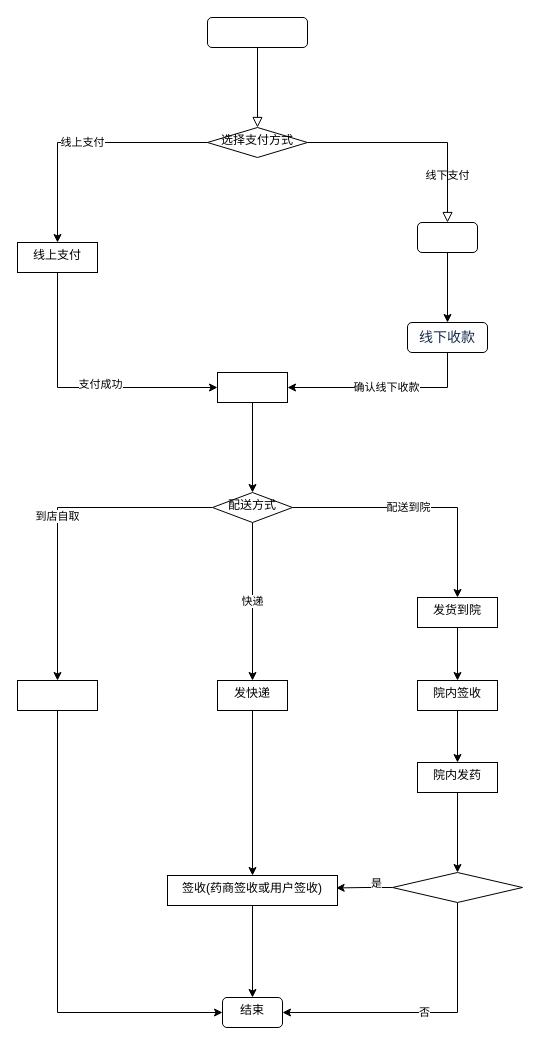
This 540x1045 diagram has some shape labels left out. The centre of each missing label's shape, as x and y in pixels:
待发药: point 252,387
待支付: point 447,237
是否配置签收环节: point 457,887
用户取药: point 57,695
用户支付处方: point 257,32
